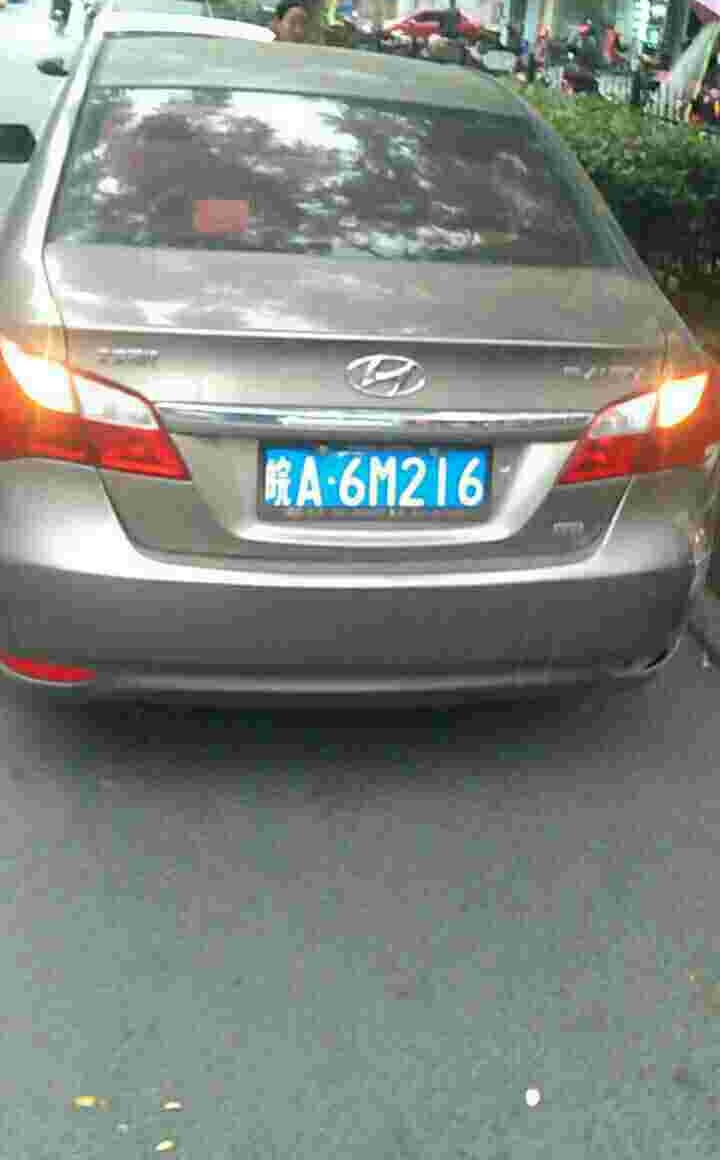license_plate: (256, 438, 502, 510)
